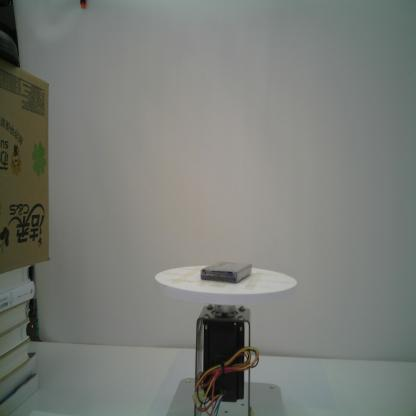Gum: (199, 260, 254, 286)
